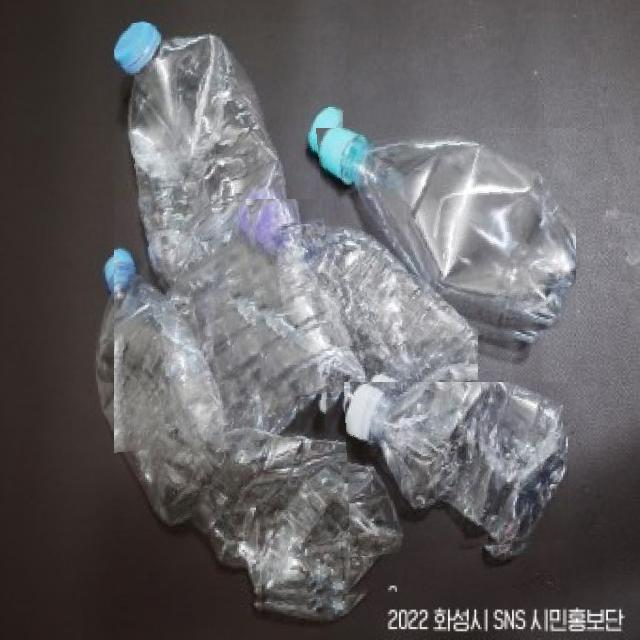plastic bottle: (96, 254, 397, 616), (114, 23, 350, 456), (316, 128, 576, 347), (246, 200, 478, 400), (344, 382, 568, 557)
